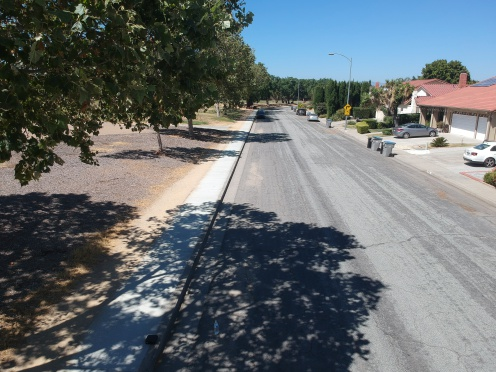bottle: (205, 318, 224, 336)
